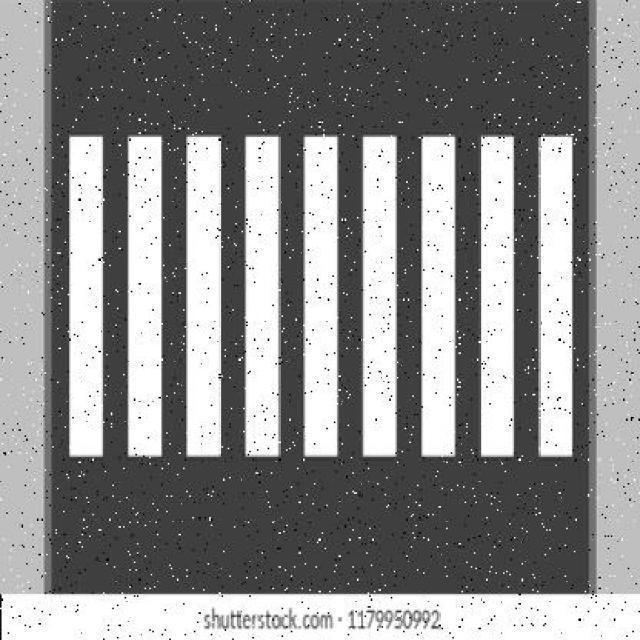crosswalk: (66, 138, 572, 463)
